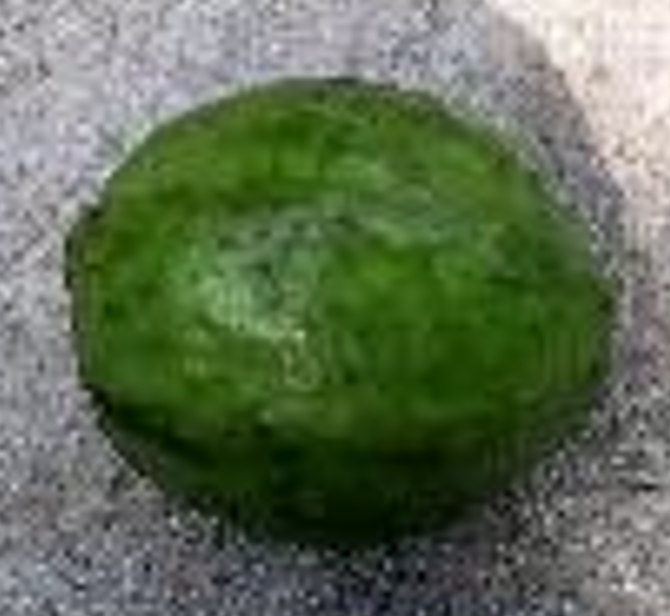guava_B: (67, 74, 615, 539)
